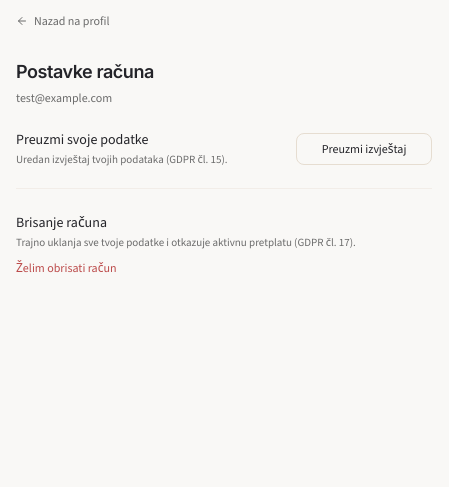
Test: MojiPodaci — delete confirmation gating › disables submit when field is empty
Click the button "Želim obrisati račun" at (66, 268), box [16,260,116,276]
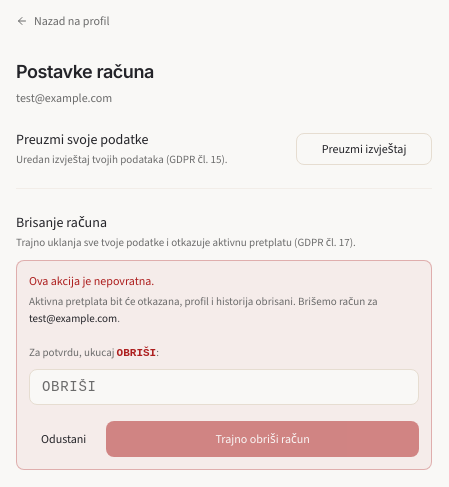
Check: the button "Trajno obriši račun" is disabled, box [106,421,419,457]
